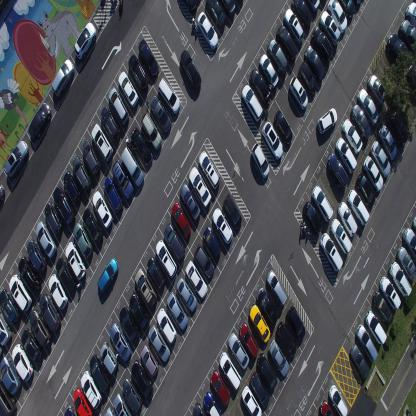car: (387, 31, 414, 74), (2, 139, 29, 180), (131, 358, 154, 402), (120, 146, 144, 188), (188, 167, 211, 210), (134, 267, 157, 310), (179, 48, 202, 90), (50, 58, 74, 98), (319, 232, 343, 272), (52, 186, 75, 227), (0, 354, 22, 396), (185, 260, 208, 300), (28, 101, 51, 141), (219, 351, 242, 391), (38, 292, 61, 332), (355, 323, 378, 363), (73, 22, 97, 60), (17, 256, 41, 294), (8, 274, 32, 312), (198, 150, 220, 191), (108, 86, 130, 127), (155, 239, 177, 280), (166, 291, 188, 332), (196, 10, 218, 51), (64, 240, 86, 281), (80, 369, 102, 410), (11, 342, 33, 383), (262, 120, 284, 161), (29, 310, 52, 349), (388, 261, 412, 298), (90, 122, 112, 162), (112, 161, 134, 201), (110, 323, 132, 363), (249, 303, 271, 343), (311, 25, 333, 65), (358, 87, 380, 127), (130, 127, 153, 165), (157, 77, 180, 115), (240, 84, 263, 122), (347, 188, 370, 226), (89, 354, 110, 395), (137, 39, 159, 78), (163, 222, 185, 261), (128, 293, 150, 332), (228, 331, 250, 370), (311, 184, 333, 223), (128, 53, 149, 93), (141, 111, 162, 151), (119, 306, 140, 346), (150, 97, 172, 135), (266, 270, 288, 308), (55, 256, 77, 294), (148, 326, 170, 364), (35, 220, 57, 258), (268, 339, 290, 377), (256, 286, 278, 324), (304, 44, 326, 82), (341, 117, 363, 155), (336, 200, 358, 238), (92, 190, 113, 229), (266, 37, 288, 74), (335, 136, 357, 173), (328, 152, 350, 189), (330, 217, 352, 254), (396, 245, 416, 285), (118, 70, 139, 108), (100, 105, 121, 143), (156, 308, 177, 346), (370, 140, 391, 178), (97, 257, 119, 293), (20, 328, 42, 364), (248, 68, 270, 104), (276, 24, 298, 60), (283, 7, 305, 43), (372, 290, 394, 326), (364, 310, 387, 344), (378, 276, 401, 310), (180, 182, 200, 221), (103, 176, 123, 215), (363, 154, 383, 193), (170, 202, 191, 239), (238, 322, 259, 359), (73, 223, 94, 260), (257, 353, 278, 390), (212, 207, 232, 245), (250, 370, 270, 408), (0, 288, 20, 326), (350, 342, 370, 380), (193, 243, 214, 279), (121, 376, 142, 412), (319, 10, 341, 44), (83, 207, 102, 246), (222, 193, 242, 230), (277, 320, 297, 357), (82, 140, 101, 178), (260, 52, 279, 90), (72, 156, 92, 192), (210, 369, 230, 405), (48, 274, 68, 310), (351, 102, 371, 138), (302, 199, 323, 233), (251, 142, 270, 179), (274, 109, 293, 146), (379, 122, 397, 161), (176, 277, 196, 312), (287, 304, 305, 342), (356, 172, 375, 208), (62, 171, 82, 205), (327, 0, 347, 34), (298, 61, 318, 95), (290, 0, 313, 29), (43, 201, 62, 236), (27, 239, 46, 274), (289, 76, 308, 110), (328, 383, 348, 415), (316, 107, 338, 136), (241, 386, 262, 416), (390, 107, 408, 142), (146, 257, 165, 290), (368, 73, 387, 106), (202, 226, 220, 260), (140, 344, 158, 378), (100, 342, 118, 376), (400, 17, 416, 55), (204, 0, 226, 27), (0, 378, 16, 415), (402, 226, 416, 265), (73, 388, 93, 415), (202, 390, 223, 415), (0, 307, 13, 346), (113, 393, 131, 415), (338, 0, 355, 21), (405, 0, 416, 30), (319, 398, 335, 416), (408, 63, 416, 98), (218, 0, 235, 15), (192, 401, 208, 415), (182, 0, 198, 12), (304, 0, 321, 11), (62, 404, 76, 415), (0, 183, 6, 205), (102, 406, 114, 416), (412, 214, 415, 233)
